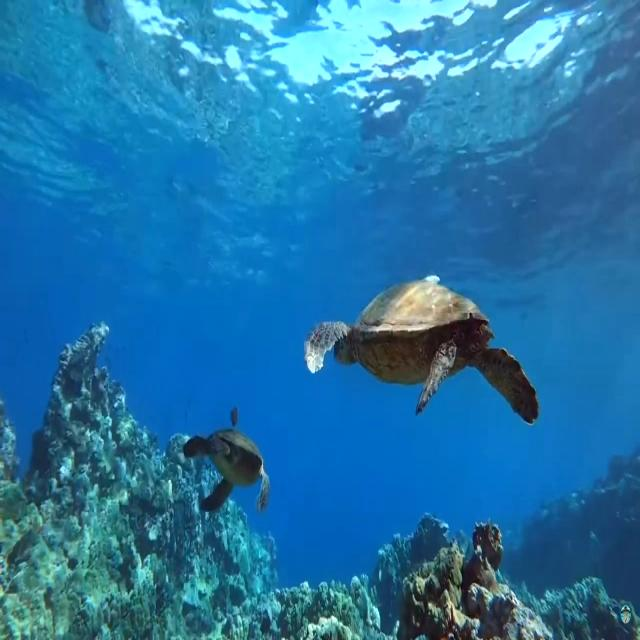Sea turtle: (304, 276, 541, 429), (182, 428, 272, 518)
